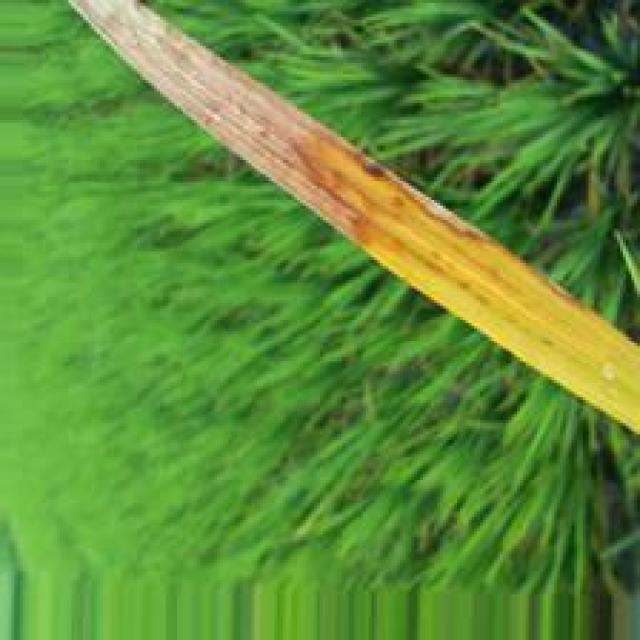Leaf_Scald: (68, 0, 509, 272)
